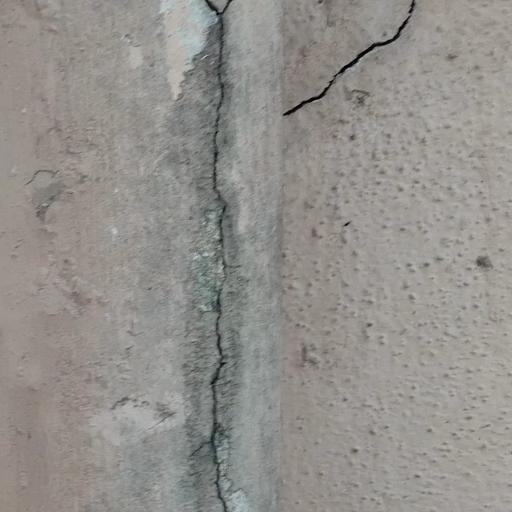major_crack: (186, 0, 259, 512), (279, 0, 424, 128)
